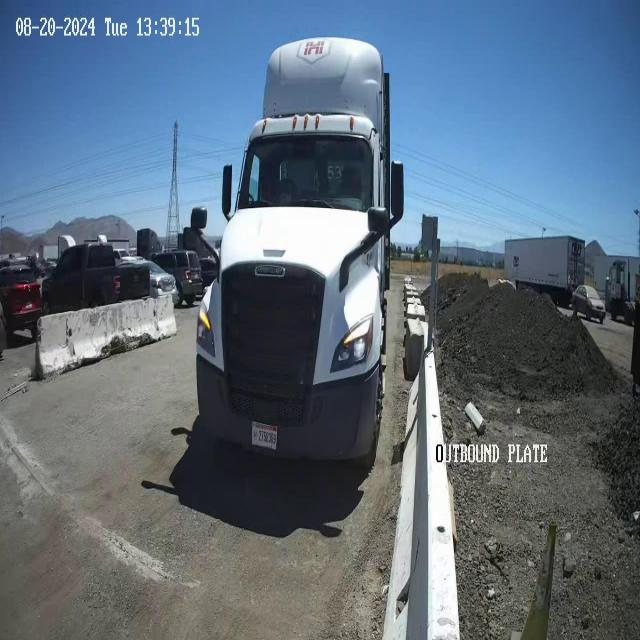TRUCK_OUT: (195, 35, 403, 468)
